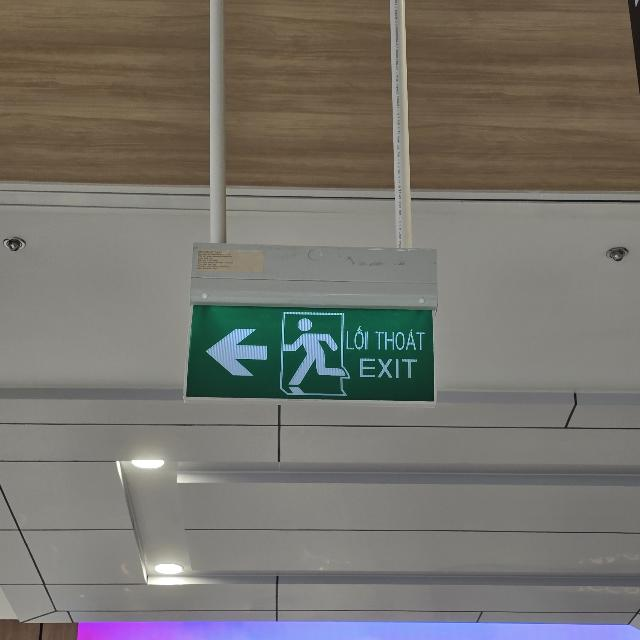exit: (187, 307, 435, 403)
